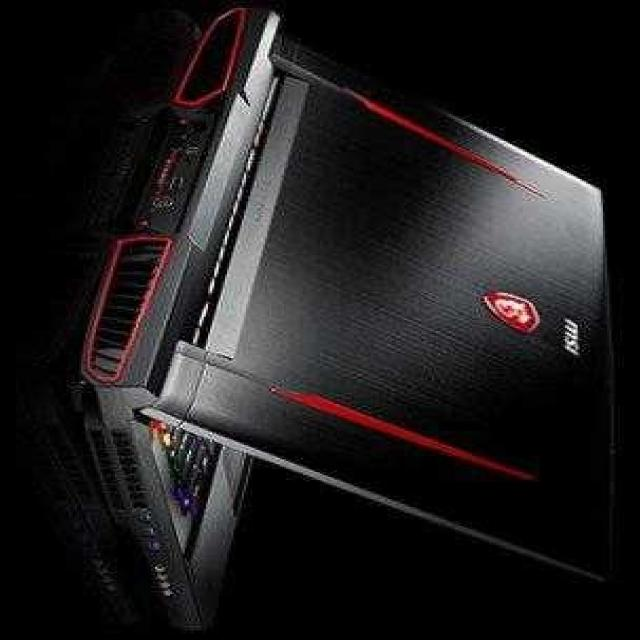laptop: (99, 8, 618, 618)
